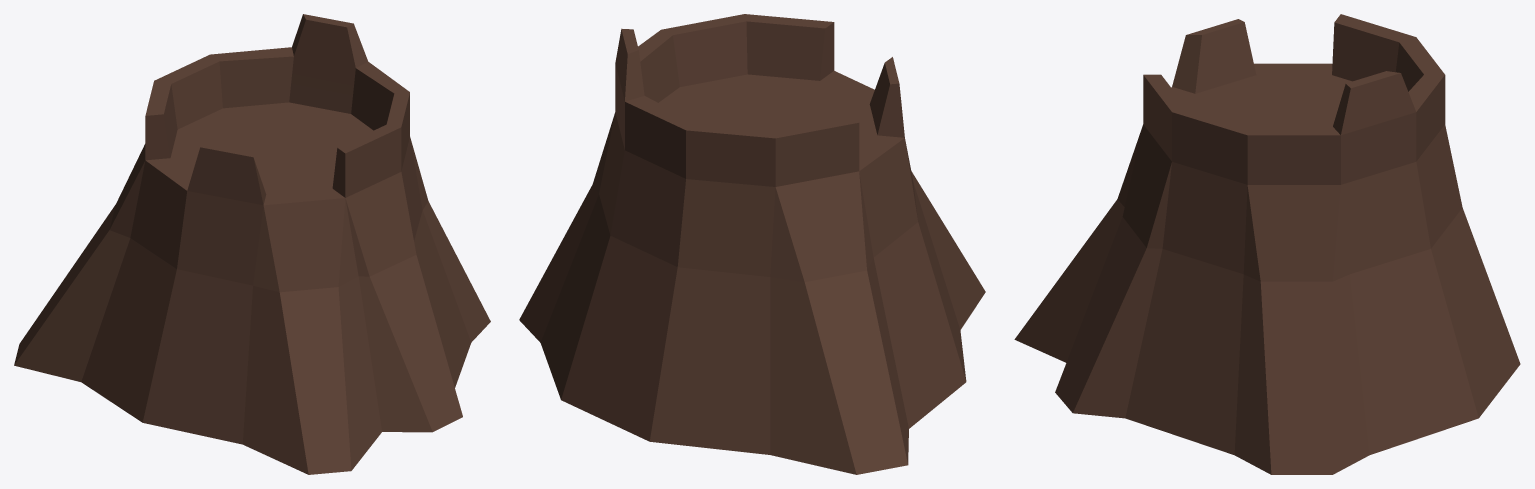
File: stump.fbx
3 views of the same model, side by side, from view 1: azimuth 30°, elevation 25°; view 2: azimuth 150°, elevation 25°; view 3: azimuth 270°, elevation 25° (orthographic). The views are drawn at different scales.
Parts seen in each view (by area): view 1: stump; view 2: stump; view 3: stump.
Part boxes in pixels (x1,y1,x2,y2): stump: [14, 14, 490, 474]; stump: [519, 14, 985, 474]; stump: [1014, 14, 1520, 474].
Bounding box in the file's own units: 1.42 × 1.01 × 1.39.
